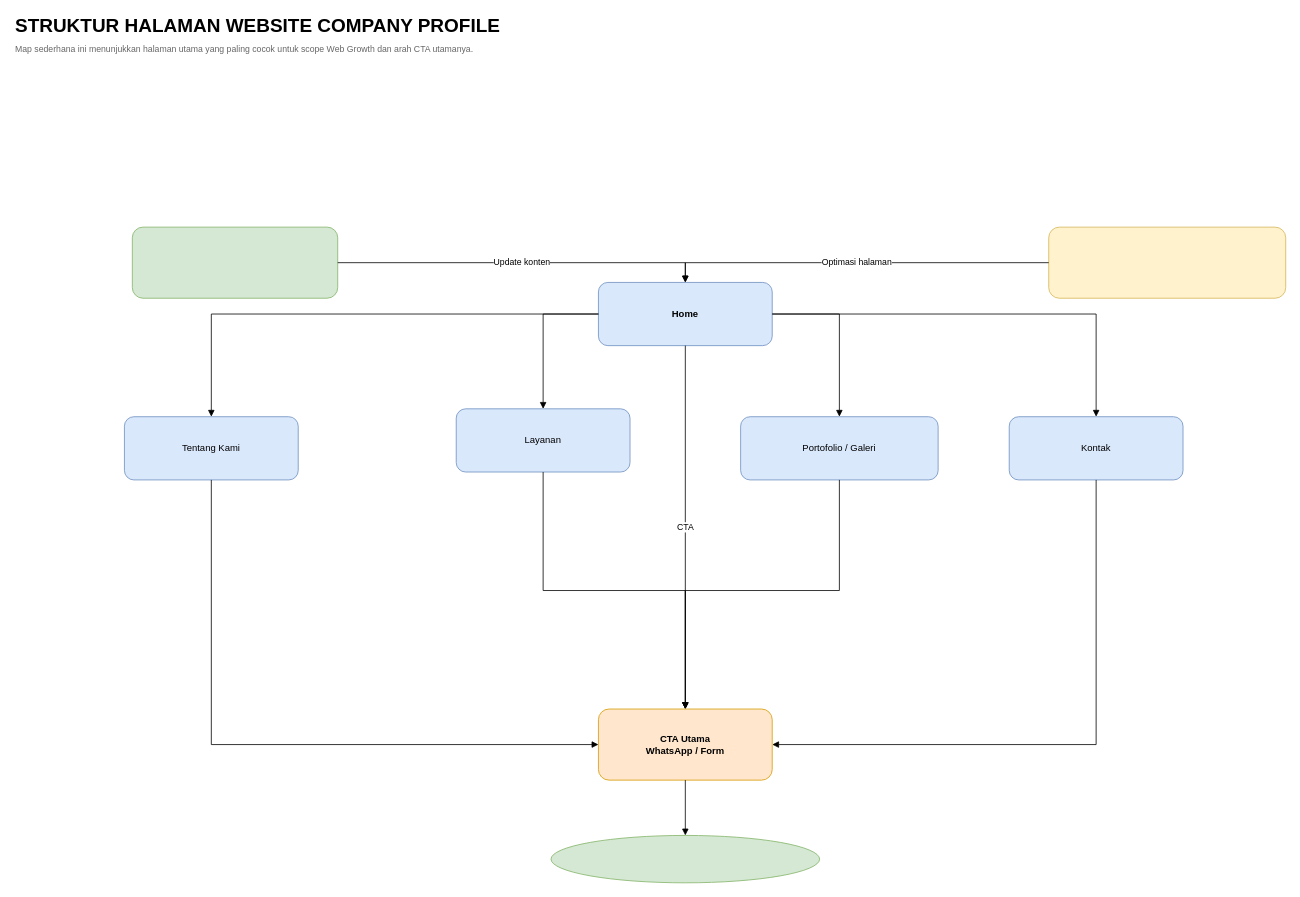
Some shapes in this 1300 by 897 pixel diagram are drawn without their labels. The shapes that lost their labels are listed below. From the top down, each one's centre as x and y in pixels, then its label:
point 235,262: Dashboard admin update konten dan galeri
point 1167,262: Fondasi SEO dasar title, meta, heading, konten utama
point 685,859: Website siap dipakai untuk trust + lead generation
